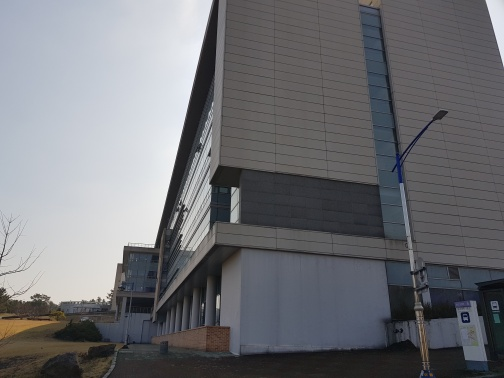Engineering College Building 4: (207, 3, 499, 339), (113, 53, 321, 351), (120, 239, 205, 351)
